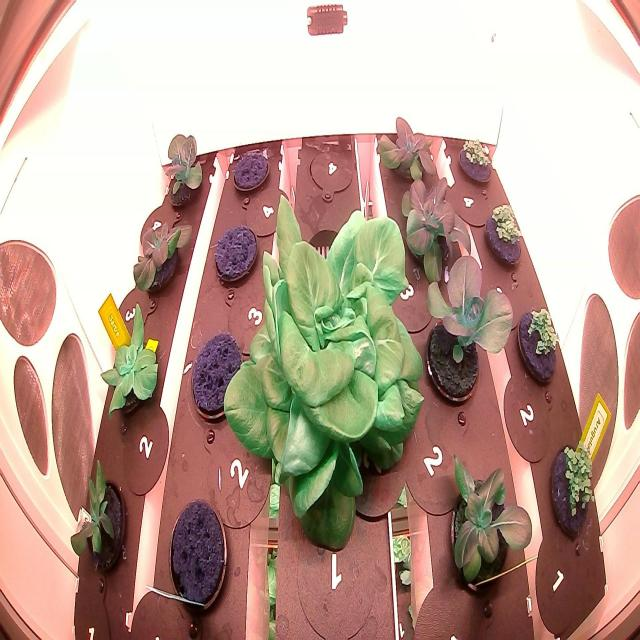Ready: (220, 189, 428, 553)
empty_pod: (284, 510, 383, 640), (304, 137, 358, 210)
germination: (544, 439, 600, 544), (511, 299, 561, 388), (481, 199, 525, 273), (455, 136, 497, 193)
pod: (167, 498, 230, 618), (191, 328, 246, 427), (214, 212, 258, 289), (231, 140, 271, 198)
young: (414, 248, 521, 424), (440, 446, 536, 615), (394, 161, 480, 294), (92, 298, 174, 427), (60, 447, 129, 592), (124, 194, 197, 314), (372, 94, 444, 200), (151, 121, 213, 223)
